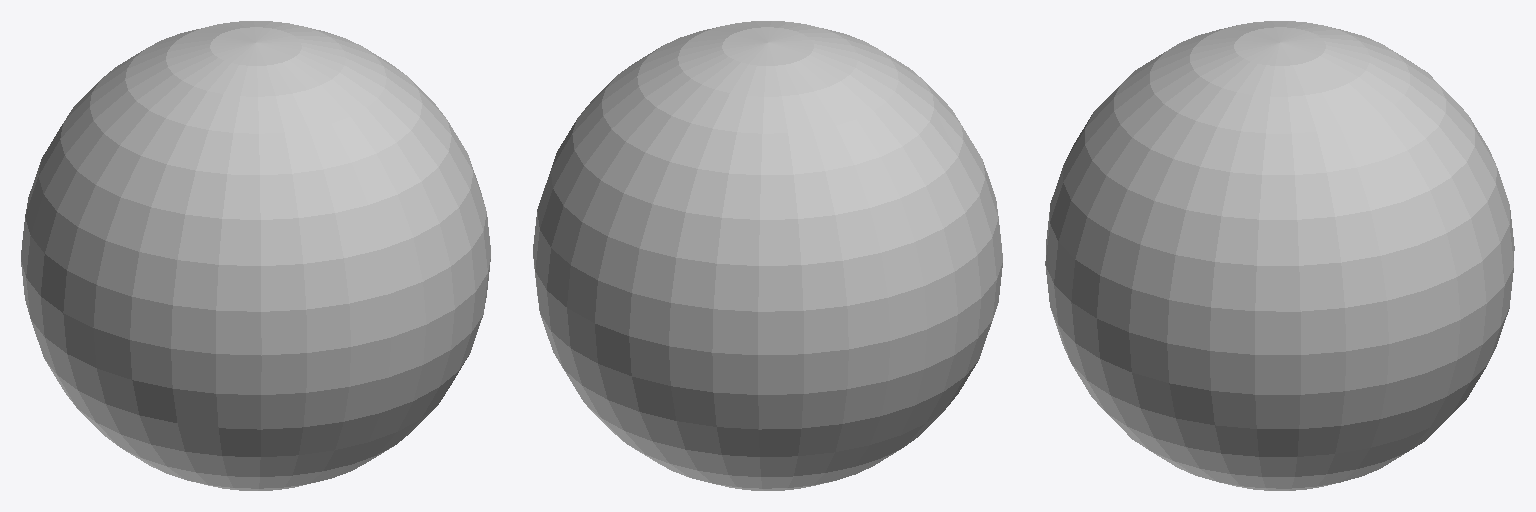
The model's file is mesh_legjoint_l3.obj.
3 views of the same model, side by side, from view 1: azimuth 30°, elevation 25°; view 2: azimuth 150°, elevation 25°; view 3: azimuth 270°, elevation 25° (orthographic).
Visible parts, largest first — view 1: Sphere.014_Sphere.023; view 2: Sphere.014_Sphere.023; view 3: Sphere.014_Sphere.023.
Part boxes in pixels (x1,y1,x2,y2): Sphere.014_Sphere.023: (21,21,490,490); Sphere.014_Sphere.023: (533,21,1002,490); Sphere.014_Sphere.023: (1045,21,1514,490).
Size of the model in its own units: 0.2988 by 0.3 by 0.2988.